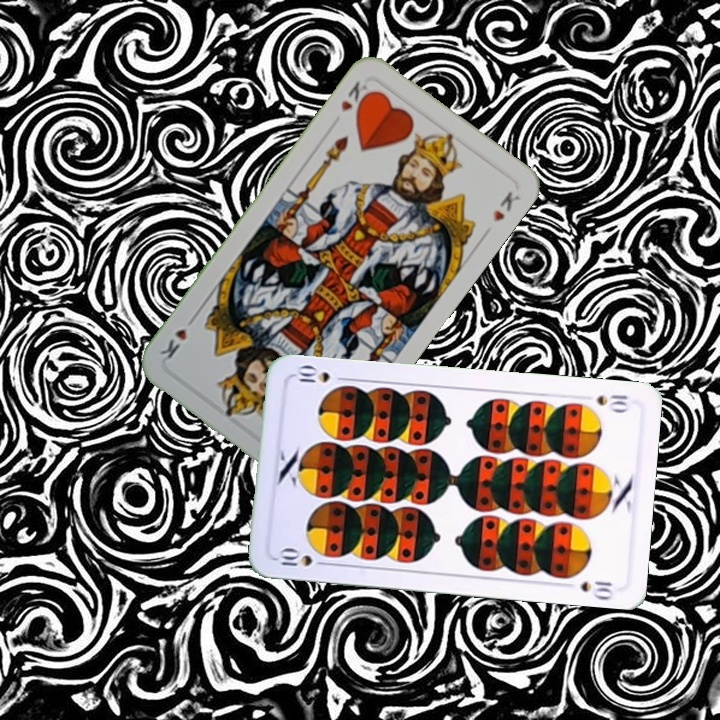HK: (337, 77, 375, 117)
S10: (272, 545, 331, 569), (593, 390, 630, 415)
